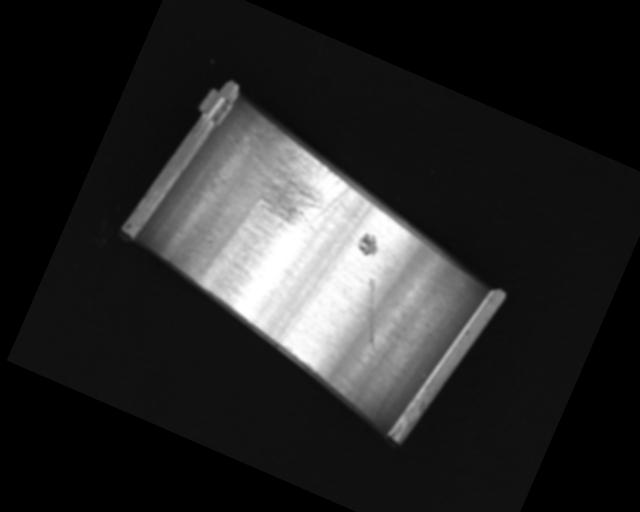bruise: (354, 231, 383, 259)
nick: (278, 240, 342, 353), (345, 277, 400, 350)
scratch: (227, 119, 363, 249)
